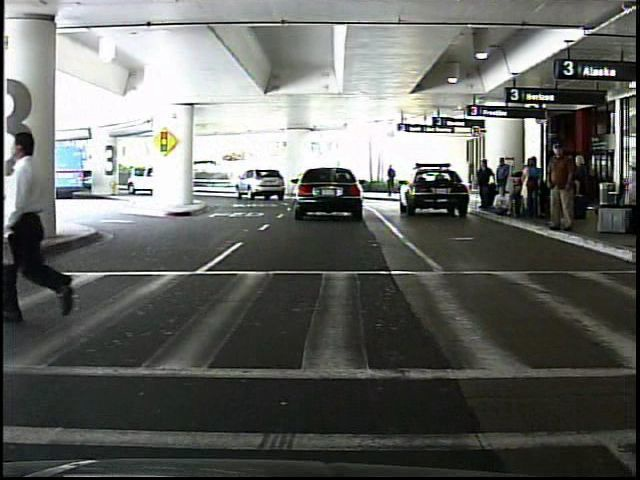person: (10, 124, 101, 324), (542, 141, 580, 236), (475, 159, 495, 213), (387, 164, 401, 199), (127, 163, 138, 189)
